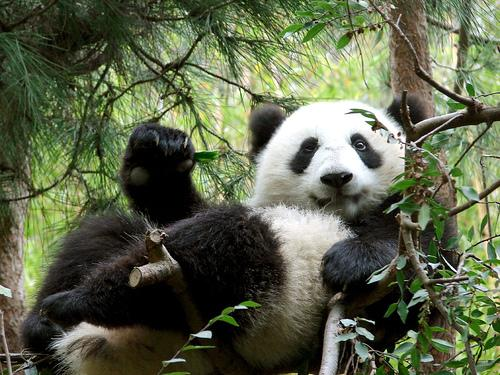panda: (20, 99, 403, 374), (359, 289, 420, 348)
